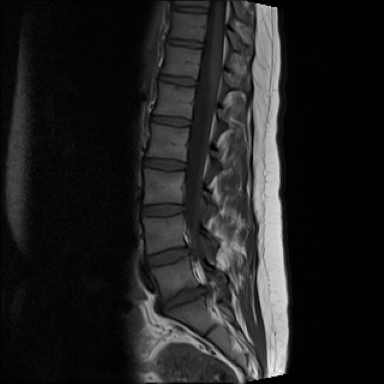Lumbar Disc Bulge (LDB): (144, 276, 208, 316), (134, 236, 195, 274)
Normal IVD: (140, 151, 191, 176), (136, 200, 190, 222), (155, 68, 202, 91), (147, 110, 196, 131), (164, 33, 206, 53), (169, 3, 210, 16)
Spinal Stenosis (SS): (190, 272, 214, 313)
